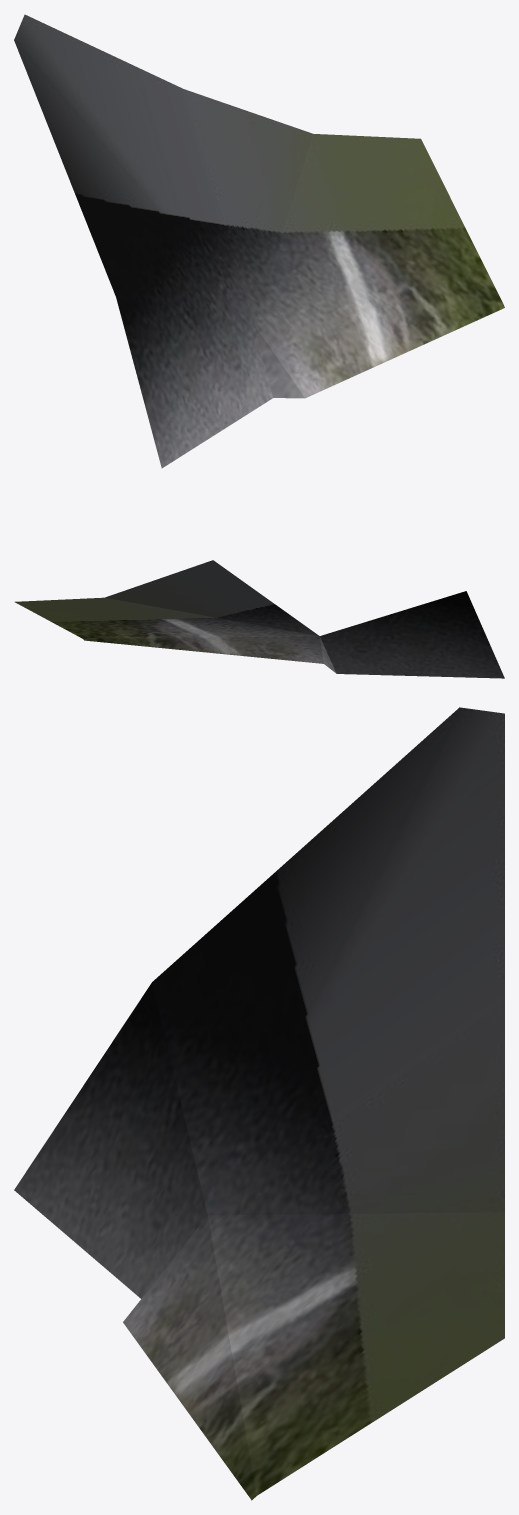
3 views of the same model, one above another, from view 1: azimuth 30°, elevation 25°; view 2: azimuth 150°, elevation 25°; view 3: azimuth 270°, elevation 25° (orthographic). The views are drawn at different scales.
Size of the model in its own units: 2.95 by 2.2 by 1.97.
Materials: 2 (2 with a texture image).
